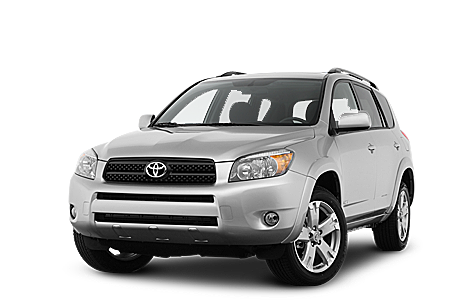P1_: (185, 206, 194, 212)
bbox: (116, 202, 184, 230)
